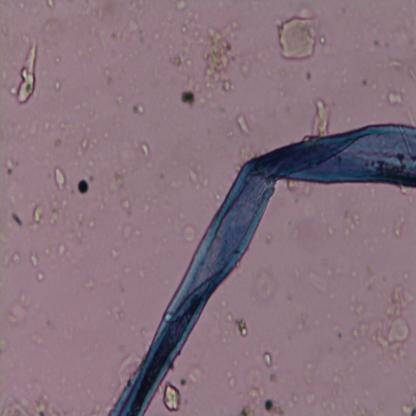Background material: (349, 277, 416, 369), (200, 16, 238, 94), (278, 5, 320, 62), (243, 367, 284, 415), (11, 35, 37, 104), (173, 12, 201, 70), (0, 392, 65, 416), (83, 0, 111, 41), (251, 263, 278, 304), (306, 267, 345, 295), (297, 183, 322, 222), (351, 390, 382, 416), (312, 96, 331, 138), (258, 40, 279, 76), (4, 294, 29, 324), (162, 376, 180, 414), (382, 83, 407, 110), (198, 92, 226, 116), (330, 360, 354, 388), (142, 189, 165, 218), (44, 15, 64, 46), (238, 43, 254, 80), (176, 365, 204, 386), (47, 197, 67, 226), (340, 209, 360, 237), (67, 209, 85, 240), (178, 70, 202, 93), (188, 164, 210, 189), (290, 309, 310, 336), (105, 301, 127, 325), (394, 207, 409, 240), (322, 389, 340, 414), (52, 165, 68, 193), (362, 266, 379, 291), (132, 137, 151, 159), (30, 253, 44, 282), (234, 113, 253, 134), (181, 222, 199, 244), (382, 55, 405, 72), (400, 392, 416, 416), (28, 327, 47, 347), (123, 15, 141, 36), (0, 250, 21, 267), (83, 160, 99, 182), (26, 113, 40, 138), (3, 156, 20, 175), (110, 173, 130, 189), (285, 387, 299, 409), (303, 388, 318, 407), (305, 362, 317, 385), (236, 318, 249, 339), (121, 196, 134, 217), (369, 34, 385, 51), (180, 92, 197, 108), (104, 241, 121, 257), (31, 204, 43, 226), (103, 67, 114, 90), (261, 348, 273, 369), (77, 139, 91, 157), (60, 119, 76, 134), (0, 332, 10, 356), (276, 63, 288, 83), (126, 0, 146, 12), (121, 223, 135, 240), (10, 212, 23, 230), (224, 369, 236, 388), (323, 218, 334, 237), (316, 30, 328, 47), (56, 242, 68, 259), (339, 66, 350, 84), (81, 277, 95, 291), (304, 65, 314, 84), (114, 93, 128, 106), (132, 102, 146, 115), (77, 180, 89, 195), (0, 21, 10, 39), (262, 230, 274, 245), (224, 310, 235, 326), (332, 324, 342, 341), (109, 30, 121, 44), (52, 76, 63, 91), (124, 263, 134, 277), (136, 267, 145, 281), (175, 2, 189, 11), (44, 119, 53, 132), (0, 66, 8, 80), (88, 216, 96, 230), (53, 137, 63, 148), (20, 0, 29, 12), (154, 30, 162, 42), (361, 76, 369, 88), (46, 0, 56, 8), (56, 56, 63, 63)
Cotton: (108, 124, 416, 415)
